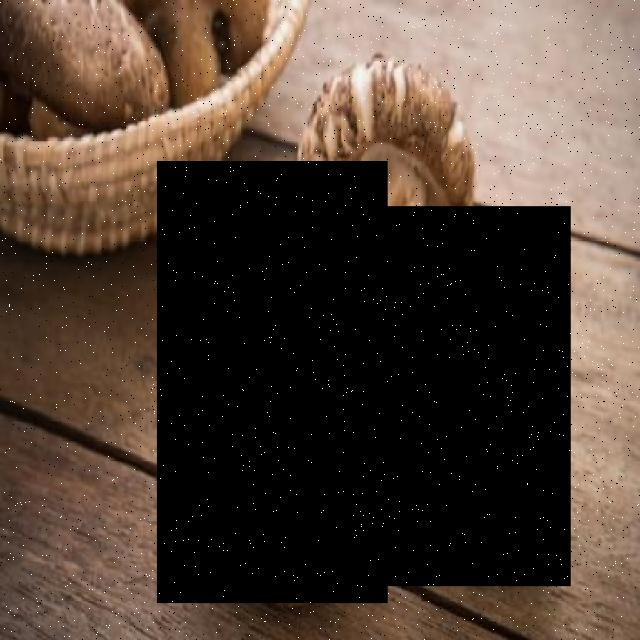Mushroom: (157, 160, 388, 603), (387, 206, 571, 586)
